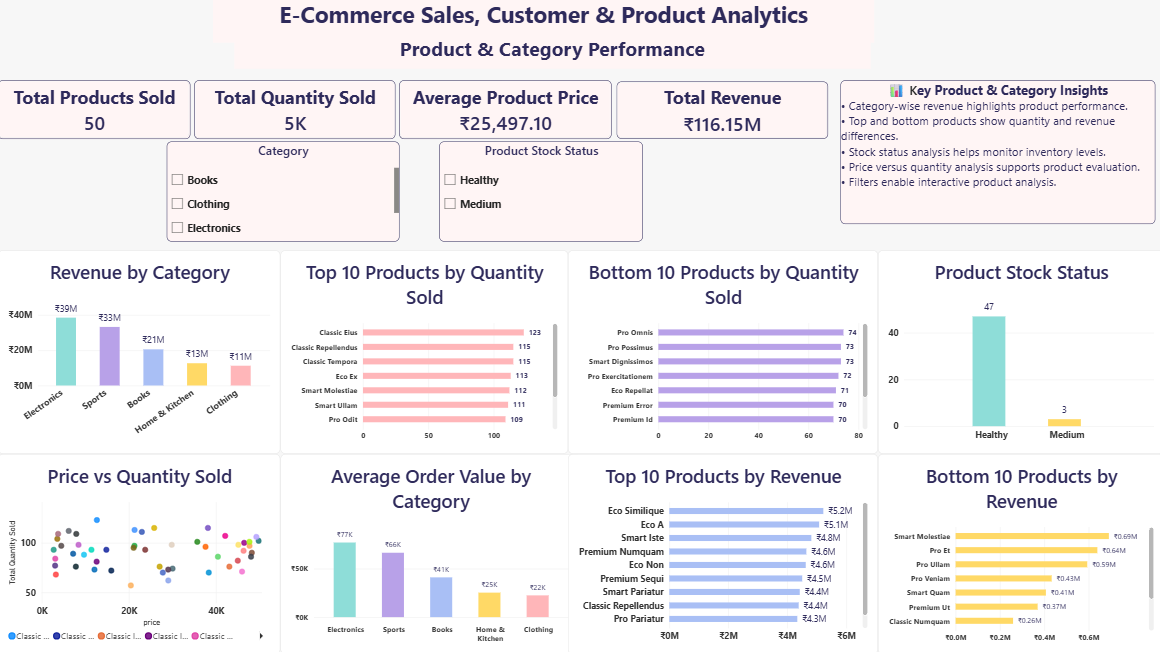

The page's visual inventory and layout, read from the dashboard file:
{"tool":"powerbi","page":{"name":"Product & Category Dashboard","canvas":[1920,1080],"ordinal":2},"visuals":[{"type":"textbox","box":[354,0,1088.9,72],"z":0},{"type":"textbox","box":[389,59.7,1047.7,55.6],"z":1000},{"type":"cardVisual","fields":{"Data":["order_items.Total Products Sold"]},"box":[0,133.8,317,96.7],"z":2000},{"type":"cardVisual","fields":{"Data":["order_items.Total Quantity Sold"]},"box":[323.2,133.8,331.4,96.7],"z":3000},{"type":"cardVisual","fields":{"Data":["products.Average Product Price"]},"box":[660.7,133.8,349.9,96.7],"z":4000},{"type":"cardVisual","fields":{"Data":["order_items.Total Revenue"]},"box":[1018.9,135.8,347.9,94.7],"z":5000},{"type":"clusteredColumnChart","title":"Revenue by Category","fields":{"Category":["products.category"],"Y":["order_items.Total Revenue"]},"box":[0,413.7,465.2,335.5],"z":6000},{"type":"clusteredBarChart","title":"Top 10 Products by Quantity Sold","fields":{"Category":["products.product_name"],"Y":["order_items.Total Quantity Sold"]},"box":[465.2,413.7,473.4,335.5],"z":7000},{"type":"clusteredBarChart","title":"Bottom 10 Products by Quantity Sold","fields":{"Category":["products.product_name"],"Y":["order_items.Total Quantity Sold"]},"box":[938.6,413.7,510.5,335.5],"z":8000},{"type":"clusteredColumnChart","title":"Product Stock Status","fields":{"Category":["products.Product Stock Status"],"Y":["Count(products.product_id)"]},"box":[1449.1,413.7,471.4,335.5],"z":9000},{"type":"scatterChart","title":"Price vs Quantity Sold","fields":{"Series":["products.product_name"],"X":["products.price"],"Y":["order_items.Total Quantity Sold"]},"box":[0,749.2,465.2,331.4],"z":10000},{"type":"clusteredColumnChart","title":"Average Order Value by Category","fields":{"Category":["products.category"],"Y":["order_items.AOV"]},"box":[465.2,749.2,494,331.4],"z":11000},{"type":"clusteredBarChart","title":"Bottom 10 Products by Revenue","fields":{"Category":["products.product_name"],"Y":["order_items.Total Revenue"]},"box":[1449.1,749.2,471.4,331.4],"z":13000},{"type":"clusteredBarChart","title":"Top 10 Products by Revenue","fields":{"Category":["products.product_name"],"Y":["order_items.Total Revenue"]},"box":[938.6,749.2,510.5,331.4],"z":13001},{"type":"slicer","title":"Category","fields":{"Values":["products.category"]},"box":[277.9,234.6,382.8,164.7],"z":13002},{"type":"slicer","title":"Product Stock Status","fields":{"Values":["products.Product Stock Status"]},"box":[763.6,234.6,298.5,164.7],"z":13003},{"type":"textbox","box":[1387.3,133.8,518.7,236.7],"z":13004}]}

Visuals, with their boxes in screenshot pixels (x1, y1, x2, y2), scaled from the page's 1920x1080 canvas onto the 1160x652 screenshot:
textbox: l=214, t=0, r=872, b=43
textbox: l=235, t=36, r=868, b=70
cardVisual - order_items.Total Products Sold: l=0, t=81, r=192, b=139
cardVisual - order_items.Total Quantity Sold: l=195, t=81, r=395, b=139
cardVisual - products.Average Product Price: l=399, t=81, r=611, b=139
cardVisual - order_items.Total Revenue: l=616, t=82, r=826, b=139
"Revenue by Category" clusteredColumnChart: l=0, t=250, r=281, b=452
"Top 10 Products by Quantity Sold" clusteredBarChart: l=281, t=250, r=567, b=452
"Bottom 10 Products by Quantity Sold" clusteredBarChart: l=567, t=250, r=875, b=452
"Product Stock Status" clusteredColumnChart: l=875, t=250, r=1159, b=452
"Price vs Quantity Sold" scatterChart: l=0, t=452, r=281, b=651
"Average Order Value by Category" clusteredColumnChart: l=281, t=452, r=580, b=651
"Bottom 10 Products by Revenue" clusteredBarChart: l=875, t=452, r=1159, b=651
"Top 10 Products by Revenue" clusteredBarChart: l=567, t=452, r=875, b=651
"Category" slicer: l=168, t=142, r=399, b=241
"Product Stock Status" slicer: l=461, t=142, r=642, b=241
textbox: l=838, t=81, r=1152, b=224
